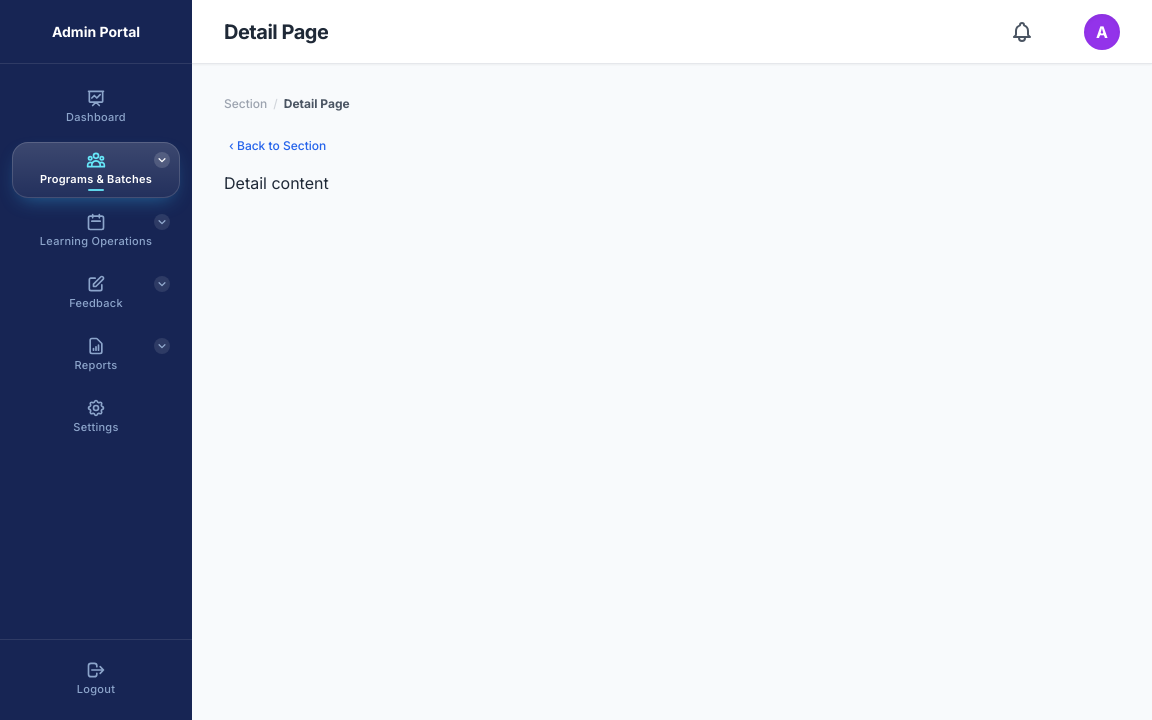
Test: AuthenticatedDetailLayout › shows a logout confirmation before actually logging out
This screenshot has width=1152, height=720.
Click the button "Logout": [96, 680] box x1=12 y1=652 x2=180 y2=708
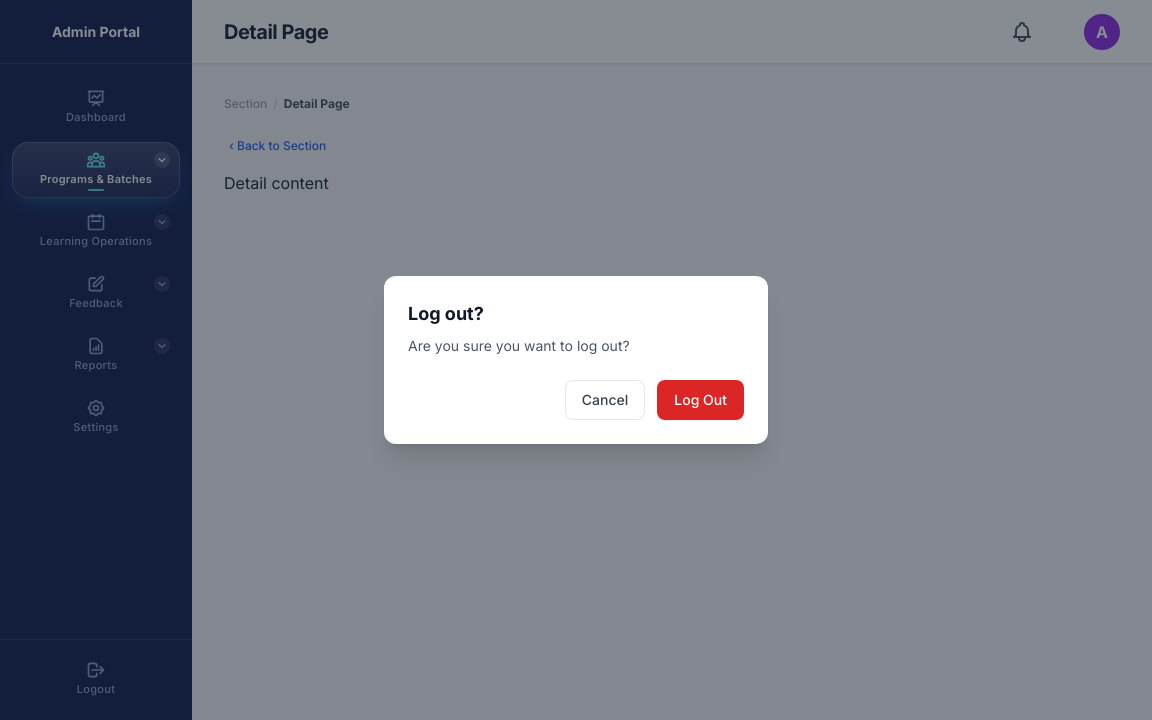
Now the dialog "Log out?" is shown
